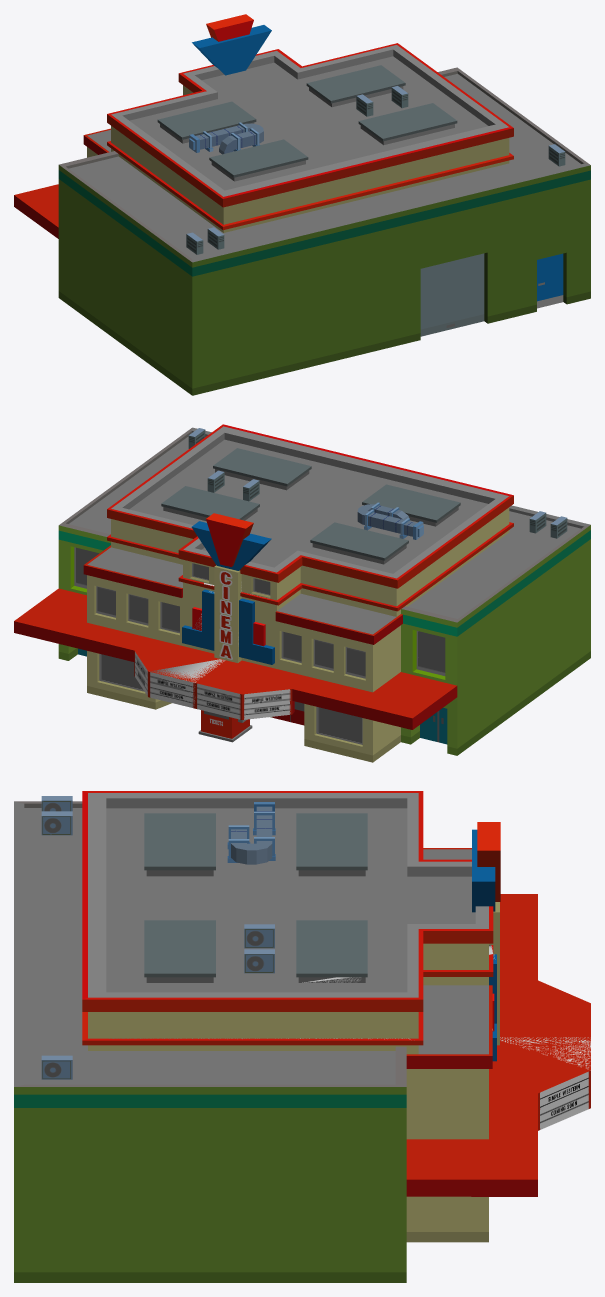
File: house_01.FBX
3 views of the same model, one above another, from view 1: azimuth 30°, elevation 25°; view 2: azimuth 150°, elevation 25°; view 3: azimuth 270°, elevation 25° (orthographic). The views are drawn at different scales.
Visible parts, largest first — view 1: Building_Cinema001_Part_7, Building_Cinema001_Part_3, Building_Cinema001_Part_6, Building_Cinema001_Part_4, Building_Cinema001_Part_5, Building_Cinema001_Part_2, Building_Cinema001_Part_1; view 2: Building_Cinema001_Part_6, Building_Cinema001_Part_1, Building_Cinema001_Part_3, Building_Cinema001_Part_2, Building_Cinema001_Part_5, Building_Cinema001_Part_4, Building_Cinema001_Part_7; view 3: Building_Cinema001_Part_5, Building_Cinema001_Part_6, Building_Cinema001_Part_1, Building_Cinema001_Part_3, Building_Cinema001_Part_7, Building_Cinema001_Part_4, Building_Cinema001_Part_2.
Part boxes in pixels (box(x1,y1,x2,y2)): Building_Cinema001_Part_7: box(336, 116, 588, 353); Building_Cinema001_Part_3: box(66, 155, 364, 361); Building_Cinema001_Part_6: box(58, 14, 397, 202); Building_Cinema001_Part_4: box(110, 232, 329, 395); Building_Cinema001_Part_5: box(376, 43, 590, 298); Building_Cinema001_Part_2: box(14, 184, 82, 315); Building_Cinema001_Part_1: box(272, 45, 389, 77); Building_Cinema001_Part_6: box(185, 471, 474, 717); Building_Cinema001_Part_1: box(14, 499, 264, 742); Building_Cinema001_Part_3: box(382, 466, 553, 737); Building_Cinema001_Part_2: box(270, 649, 481, 762); Building_Cinema001_Part_5: box(41, 424, 267, 601); Building_Cinema001_Part_4: box(508, 510, 590, 717); Building_Cinema001_Part_7: box(257, 435, 392, 480); Building_Cinema001_Part_5: box(14, 945, 459, 1282); Building_Cinema001_Part_6: box(111, 791, 584, 1019); Building_Cinema001_Part_1: box(334, 926, 590, 1282); Building_Cinema001_Part_3: box(14, 791, 257, 930); Building_Cinema001_Part_7: box(14, 878, 200, 1042); Building_Cinema001_Part_4: box(14, 796, 82, 846); Building_Cinema001_Part_2: box(500, 894, 537, 937).
Size of the model in its own units: 31.34 by 15.54 by 26.75.
Materials: 1 (1 with a texture image).
